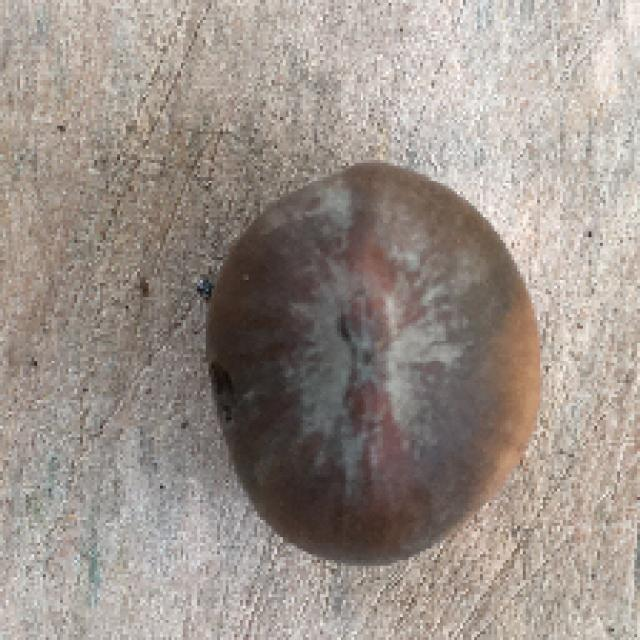damagedHazelnut: (200, 154, 550, 563)
